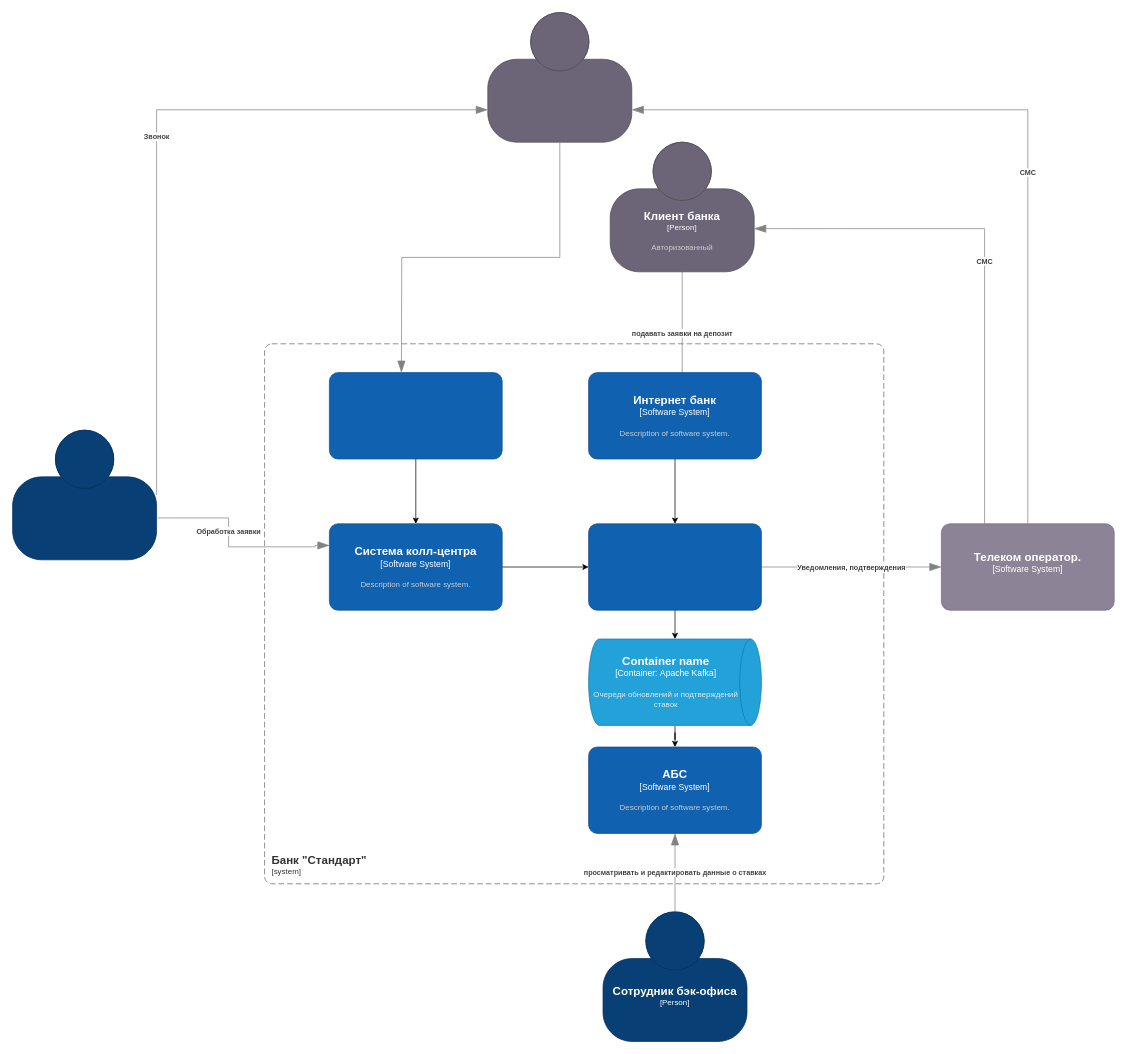
Image size: 1127x1054. Some labels were removed from this diagram. The shapes that lost their labels are listed below. From the top down, each one's centre as x and y in pixels, then its label:
At pixel 559 77: "Клиент банка [Person] Новый".
At pixel 415 415: "Сайт банка [Software System]".
At pixel 84 494: "Сотрудник кол-центра [Person]".
At pixel 674 566: "Сервис депозитов [Software System] Description of software system.".
